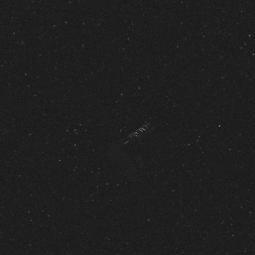soho: (100, 118, 188, 179)
